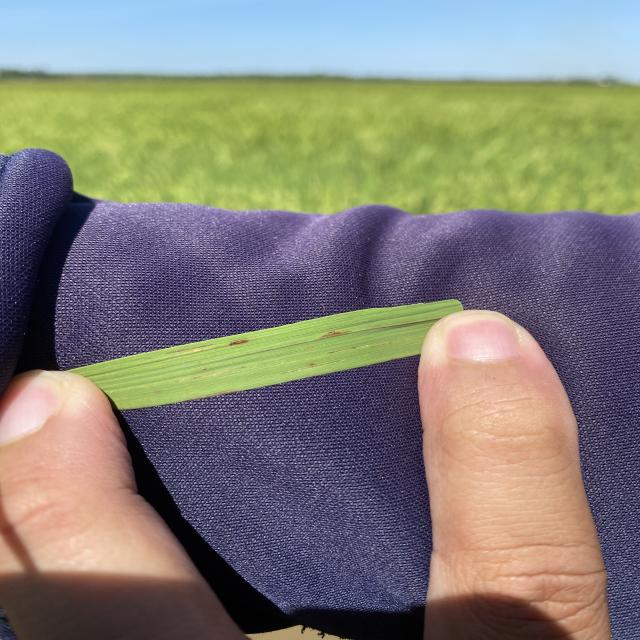Dom nau: (321, 332, 341, 338), (230, 340, 248, 346)
